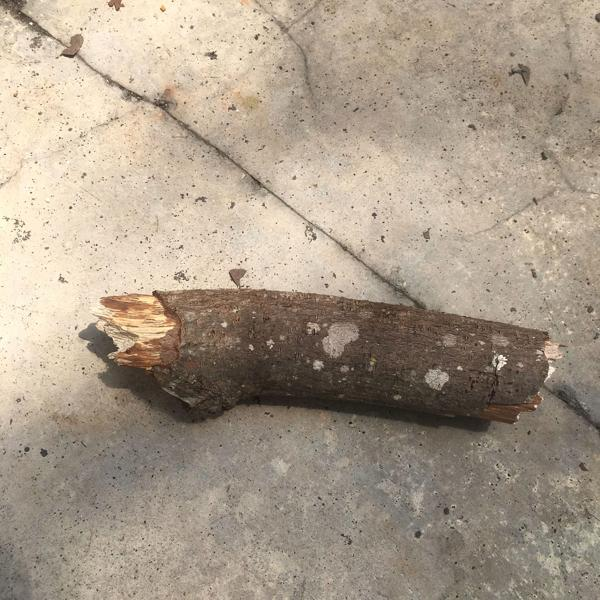Organik: (73, 271, 573, 474)
